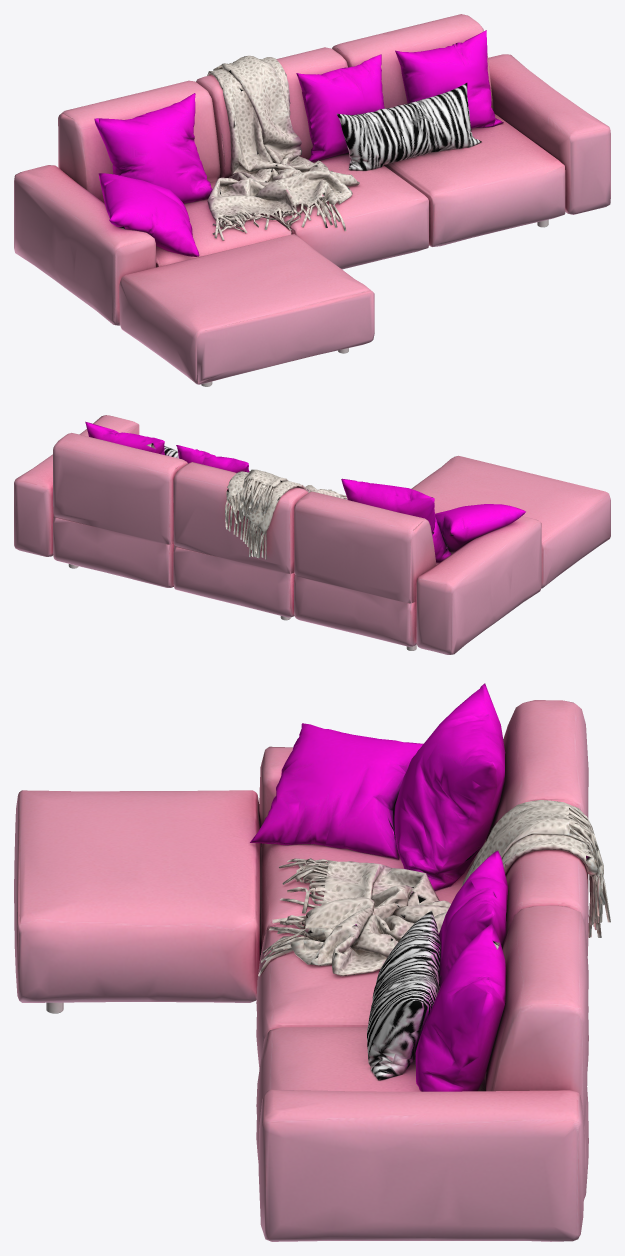
Rendered from pink_sofa.glb.
The picture shows the model from 3 angles, top to bottom: view 1: azimuth 30°, elevation 25°; view 2: azimuth 150°, elevation 25°; view 3: azimuth 270°, elevation 25°; orthographic projection. The views are drawn at different scales.
Parts seen in each view (by area): view 1: Sofa; view 2: Sofa; view 3: Sofa.
Boxes of the visible parts, x1,y1,x2,y2 form: Sofa: [14, 14, 610, 386]; Sofa: [14, 415, 610, 654]; Sofa: [14, 683, 610, 1241].
Size of the model in its own units: 293 by 88.13 by 195.
Materials: 1 (1 with a texture image).
